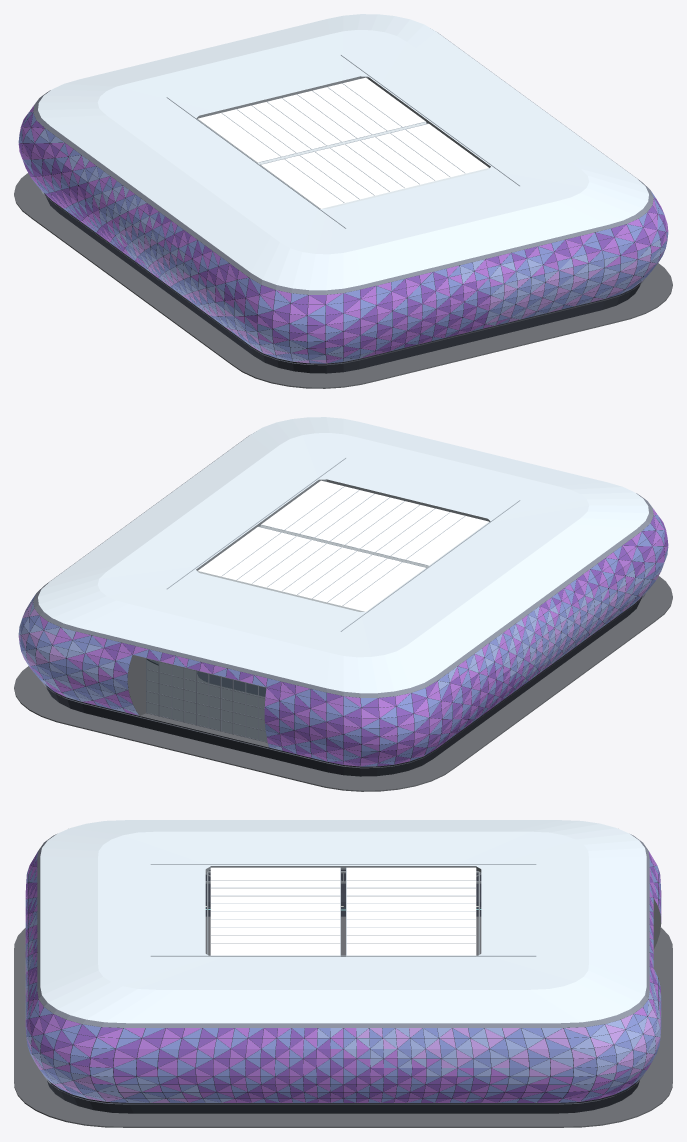
Rendered from shell.glb.
3 renders of one model, top to bottom at view 1: azimuth 30°, elevation 25°; view 2: azimuth 150°, elevation 25°; view 3: azimuth 270°, elevation 25°, orthographic. The views are drawn at different scales.
Visible parts, largest first — view 1: shell_roof_canopy_fixed, shell_bowl_mass_cladding_3, shell_bowl_mass_plinth, shell_bowl_mass_cladding_2, shell_roof_canopy_retractable_north, shell_roof_canopy_retractable_south, shell_bowl_mass_cladding_1, shell_bowl_mass_cladding_4, shell_bowl_mass_cladding_backer, shell_bowl_mass_base_wall, shell_bowl_mass_cladding_bezel, shell_bowl_mass_cladding_5 (+4 smaller); view 2: shell_roof_canopy_fixed, shell_bowl_mass_plinth, shell_bowl_mass_cladding_3, shell_bowl_mass_cladding_2, shell_roof_canopy_retractable_south, shell_roof_canopy_retractable_north, shell_bowl_mass_cladding_1, shell_field_floor_apron, shell_bowl_mass_base_wall, shell_bowl_mass_suite_glass_south_terrace, shell_bowl_mass_cladding_4, shell_bowl_mass_cladding_backer (+9 smaller); view 3: shell_roof_canopy_fixed, shell_bowl_mass_cladding_3, shell_bowl_mass_plinth, shell_bowl_mass_cladding_2, shell_roof_canopy_retractable_north, shell_roof_canopy_retractable_south, shell_bowl_mass_cladding_1, shell_bowl_mass_cladding_backer, shell_bowl_mass_cladding_4, shell_bowl_mass_base_wall, shell_bowl_mass_cladding_5, shell_bowl_mass_cladding_bezel (+5 smaller).
Part boxes in pixels (x1=…): shell_roof_canopy_fixed: x1=38, y1=14, x2=648, y2=290; shell_bowl_mass_cladding_3: x1=18, y1=112, x2=668, y2=363; shell_bowl_mass_plinth: x1=14, y1=173, x2=672, y2=388; shell_bowl_mass_cladding_2: x1=18, y1=105, x2=668, y2=363; shell_roof_canopy_retractable_north: x1=197, y1=77, x2=426, y2=164; shell_roof_canopy_retractable_south: x1=260, y1=124, x2=489, y2=208; shell_bowl_mass_cladding_1: x1=18, y1=113, x2=665, y2=351; shell_bowl_mass_cladding_4: x1=40, y1=129, x2=667, y2=361; shell_bowl_mass_cladding_backer: x1=20, y1=112, x2=666, y2=362; shell_bowl_mass_base_wall: x1=44, y1=193, x2=641, y2=373; shell_bowl_mass_cladding_bezel: x1=33, y1=32, x2=653, y2=294; shell_bowl_mass_cladding_5: x1=120, y1=225, x2=664, y2=363; shell_roof_canopy_fixed: x1=38, y1=417, x2=648, y2=693; shell_bowl_mass_plinth: x1=14, y1=576, x2=672, y2=791; shell_bowl_mass_cladding_3: x1=18, y1=515, x2=667, y2=766; shell_bowl_mass_cladding_2: x1=20, y1=508, x2=667, y2=766; shell_roof_canopy_retractable_south: x1=260, y1=480, x2=489, y2=567; shell_roof_canopy_retractable_north: x1=197, y1=527, x2=426, y2=611; shell_bowl_mass_cladding_1: x1=44, y1=516, x2=668, y2=766; shell_field_floor_apron: x1=51, y1=567, x2=631, y2=766; shell_bowl_mass_base_wall: x1=45, y1=596, x2=642, y2=776; shell_bowl_mass_suite_glass_south_terrace: x1=146, y1=659, x2=266, y2=741; shell_bowl_mass_cladding_4: x1=18, y1=547, x2=668, y2=750; shell_bowl_mass_cladding_backer: x1=20, y1=515, x2=666, y2=765; shell_roof_canopy_fixed: x1=40, y1=820, x2=646, y2=1023; shell_bowl_mass_cladding_3: x1=25, y1=851, x2=661, y2=1102; shell_bowl_mass_plinth: x1=14, y1=916, x2=672, y2=1127; shell_bowl_mass_cladding_2: x1=25, y1=852, x2=661, y2=1102; shell_roof_canopy_retractable_north: x1=346, y1=867, x2=476, y2=956; shell_roof_canopy_retractable_south: x1=210, y1=867, x2=340, y2=956; shell_bowl_mass_cladding_1: x1=25, y1=851, x2=661, y2=1102; shell_bowl_mass_cladding_backer: x1=28, y1=862, x2=658, y2=1102; shell_bowl_mass_cladding_4: x1=25, y1=912, x2=661, y2=1102; shell_bowl_mass_base_wall: x1=47, y1=902, x2=639, y2=1113; shell_bowl_mass_cladding_5: x1=25, y1=959, x2=660, y2=1102; shell_bowl_mass_cladding_bezel: x1=37, y1=834, x2=649, y2=1027.
Bounding box in the file's own units: 224 × 49.88 × 280.
